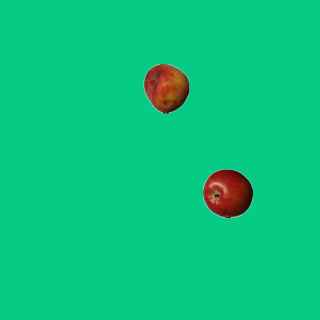Apple Braeburn: (202, 168, 252, 218)
Peach: (141, 63, 191, 113)
